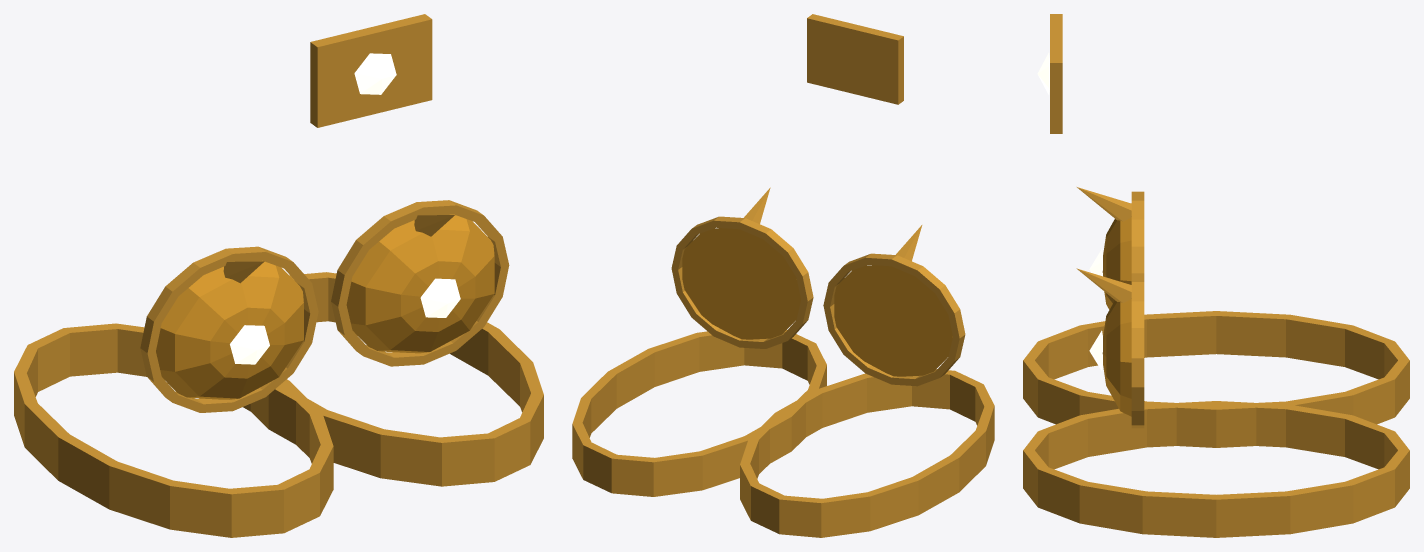
File: armor_lord_legs_legendary_human.glb
3 renders of one model, left to right at view 1: azimuth 30°, elevation 25°; view 2: azimuth 150°, elevation 25°; view 3: azimuth 270°, elevation 25°, orthographic. The views are drawn at different scales.
Parts seen in each view (by area): view 1: armor_lord_legs_legendary_human__calf_r, armor_lord_legs_legendary_human__calf_l, armor_lord_legs_legendary_human__pelvis; view 2: armor_lord_legs_legendary_human__calf_r, armor_lord_legs_legendary_human__calf_l, armor_lord_legs_legendary_human__pelvis; view 3: armor_lord_legs_legendary_human__calf_l, armor_lord_legs_legendary_human__calf_r, armor_lord_legs_legendary_human__pelvis.
Part boxes in pixels (left/top/right/bottom): armor_lord_legs_legendary_human__calf_r: left=14, top=246, right=333, bottom=537; armor_lord_legs_legendary_human__calf_l: left=250, top=200, right=543, bottom=486; armor_lord_legs_legendary_human__pelvis: left=310, top=14, right=432, bottom=127; armor_lord_legs_legendary_human__calf_r: left=740, top=225, right=994, bottom=537; armor_lord_legs_legendary_human__calf_l: left=572, top=187, right=826, bottom=496; armor_lord_legs_legendary_human__pelvis: left=807, top=14, right=903, bottom=104; armor_lord_legs_legendary_human__calf_l: left=1023, top=268, right=1409, bottom=537; armor_lord_legs_legendary_human__calf_r: left=1023, top=187, right=1409, bottom=447; armor_lord_legs_legendary_human__pelvis: left=1037, top=14, right=1062, bottom=133.
Bounding box in the file's own units: 42.33 × 42.4 × 36.64.
